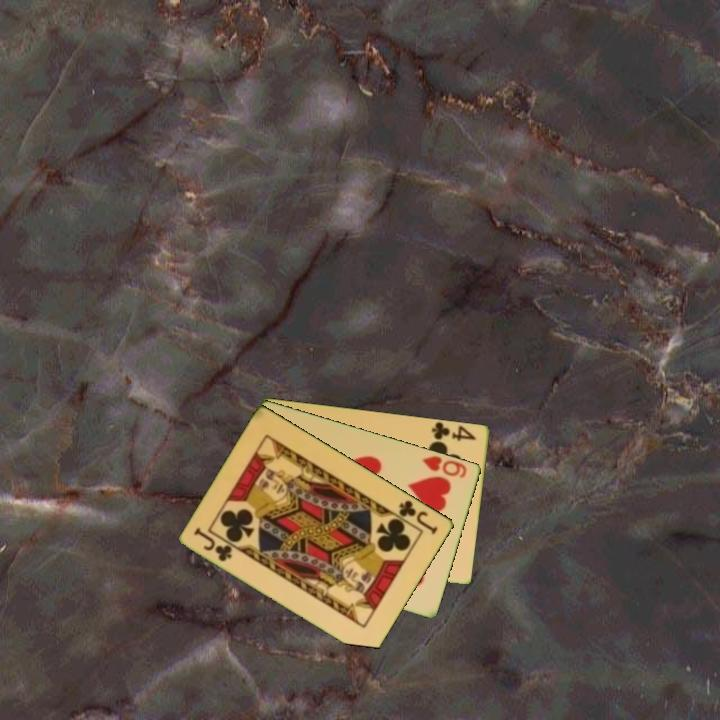4c: (428, 420, 479, 444)
6h: (419, 452, 470, 481)
Jc: (396, 496, 441, 537), (191, 524, 236, 565)
